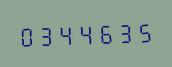five: (131, 18, 149, 44)
four: (55, 21, 73, 47), (74, 20, 92, 46)
six: (93, 19, 111, 46)
three: (36, 21, 54, 48), (112, 19, 130, 45)
zero: (17, 22, 35, 48)
